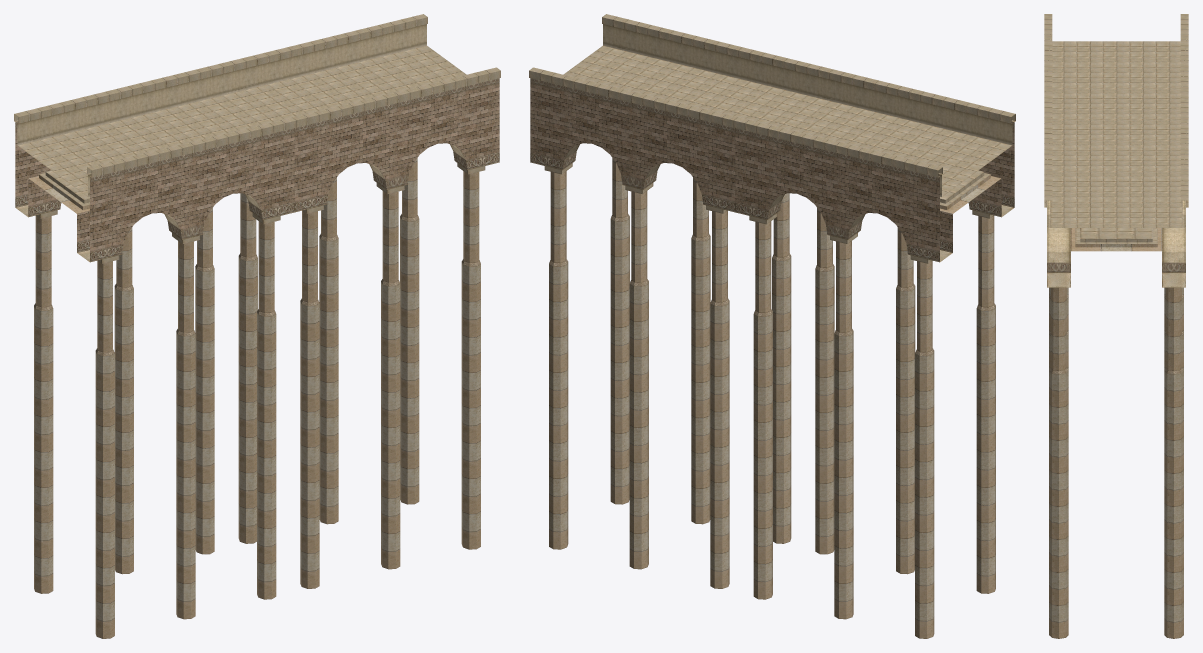
Rendered from thm_nboo_imprv_elevated_walkway_s02_l0.fbx.
3 renders of one model, left to right at view 1: azimuth 30°, elevation 25°; view 2: azimuth 150°, elevation 25°; view 3: azimuth 270°, elevation 25°, orthographic. The views are drawn at different scales.
Parts seen in each view (by area): view 1: mesh_node; view 2: mesh_node; view 3: mesh_node.
Part boxes in pixels (bbox=[...]): mesh_node: bbox=[14, 14, 500, 638]; mesh_node: bbox=[529, 14, 1015, 638]; mesh_node: bbox=[1044, 14, 1188, 638].
Size of the model in its own units: 16.5 by 18.3 by 5.39.
